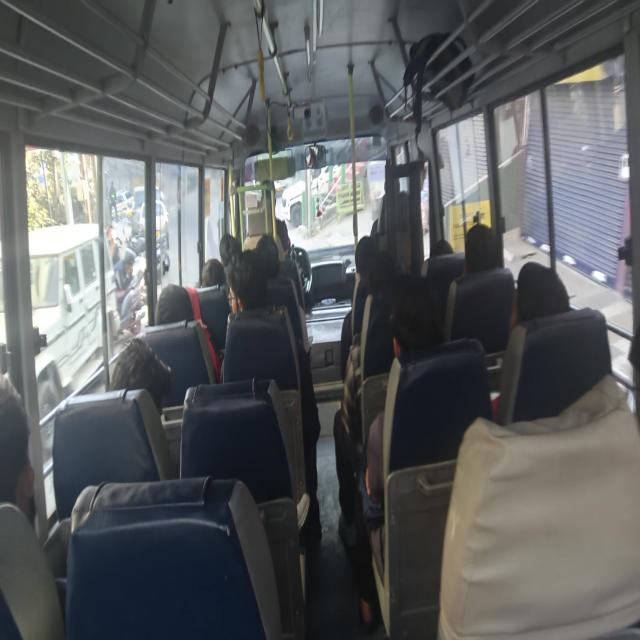person: (357, 274, 441, 628), (220, 249, 322, 539), (333, 251, 399, 546), (1, 372, 66, 579), (496, 261, 571, 423), (444, 222, 514, 348), (339, 234, 377, 378), (0, 372, 36, 522), (110, 336, 172, 415), (510, 260, 570, 330), (462, 222, 502, 275), (154, 283, 194, 325), (114, 247, 136, 291), (200, 258, 226, 287), (219, 232, 234, 266)
